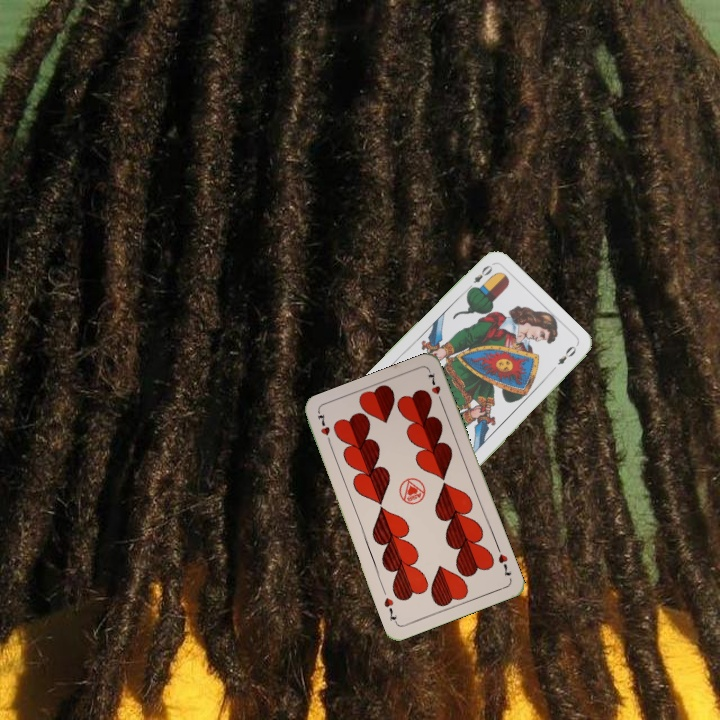EO: (463, 261, 495, 294)
H7: (314, 409, 334, 448), (493, 542, 514, 579)
